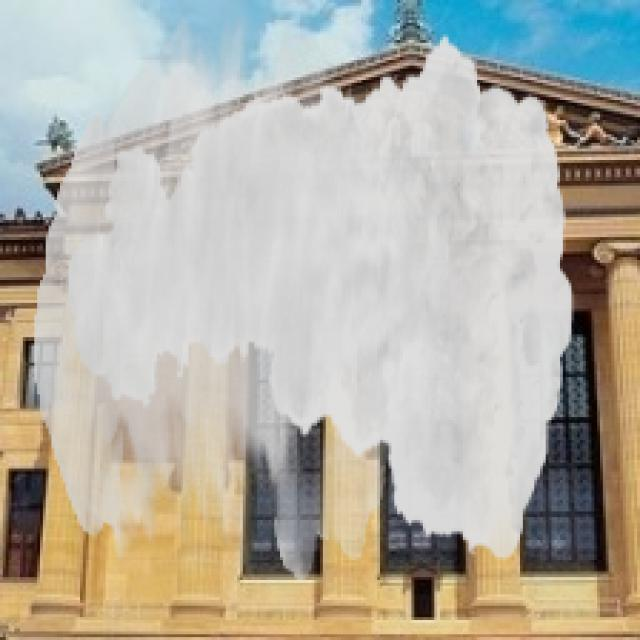Smoke: (34, 11, 574, 580)
